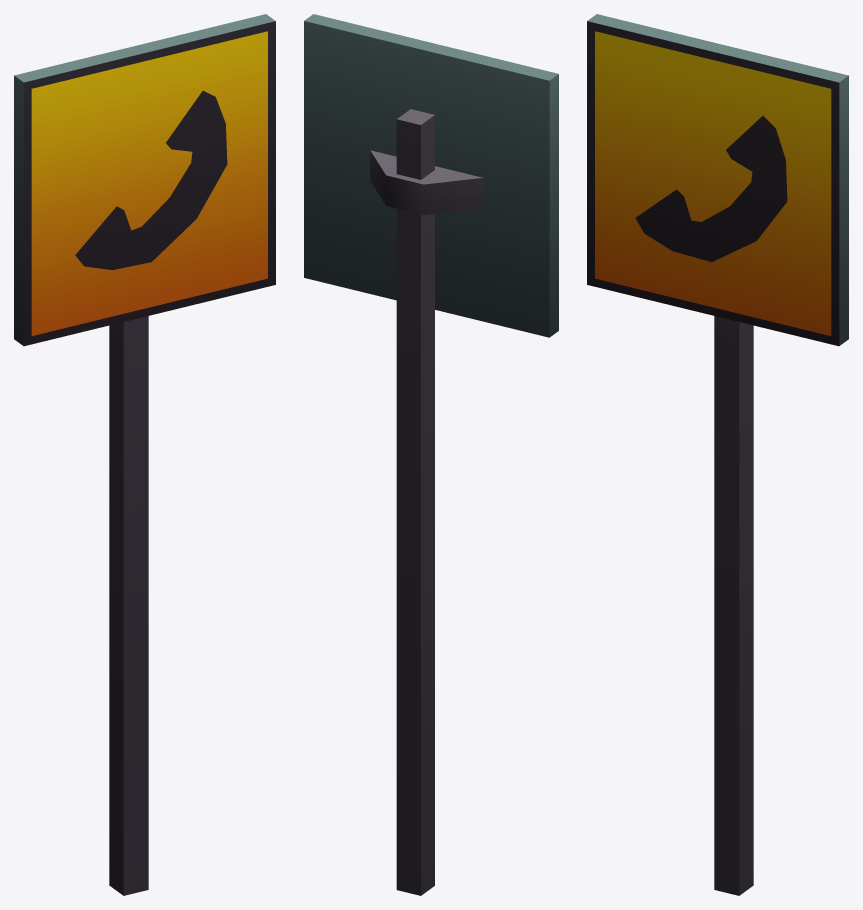
Rendered from Streetsign_2H.fbx.
The picture shows the model from 3 angles, left to right: view 1: azimuth 30°, elevation 25°; view 2: azimuth 150°, elevation 25°; view 3: azimuth 330°, elevation 25°; orthographic projection. The views are drawn at different scales.
Visible parts, largest first — view 1: Streetsign_2H; view 2: Streetsign_2H; view 3: Streetsign_2H.
Boxes of the visible parts, x1,y1,x2,y2 form: Streetsign_2H: (14, 14, 275, 895); Streetsign_2H: (304, 14, 558, 895); Streetsign_2H: (587, 14, 848, 895).
Bounding box in the file's own units: 90 × 290 × 20.83.
